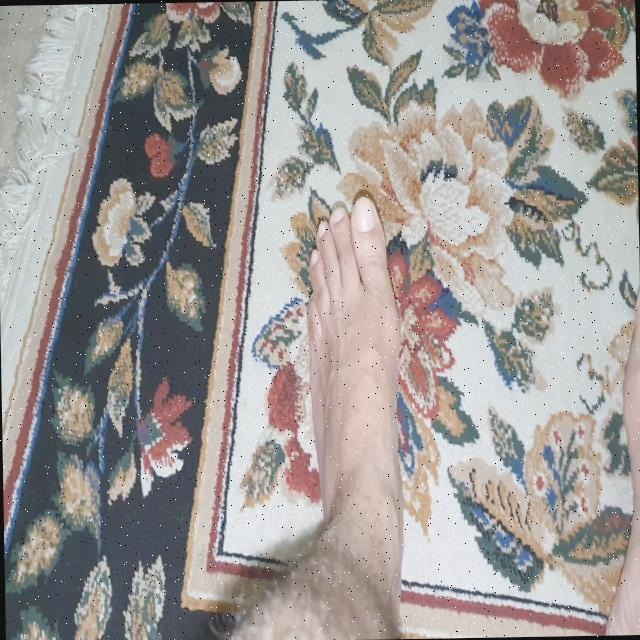no-boots: (300, 192, 424, 640)
